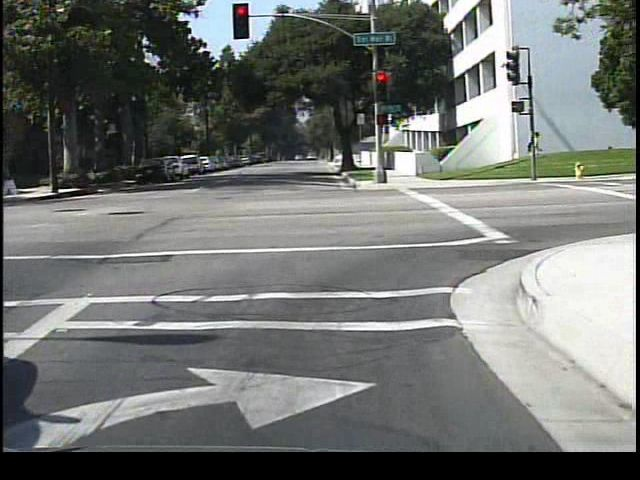person: (519, 127, 542, 175)
